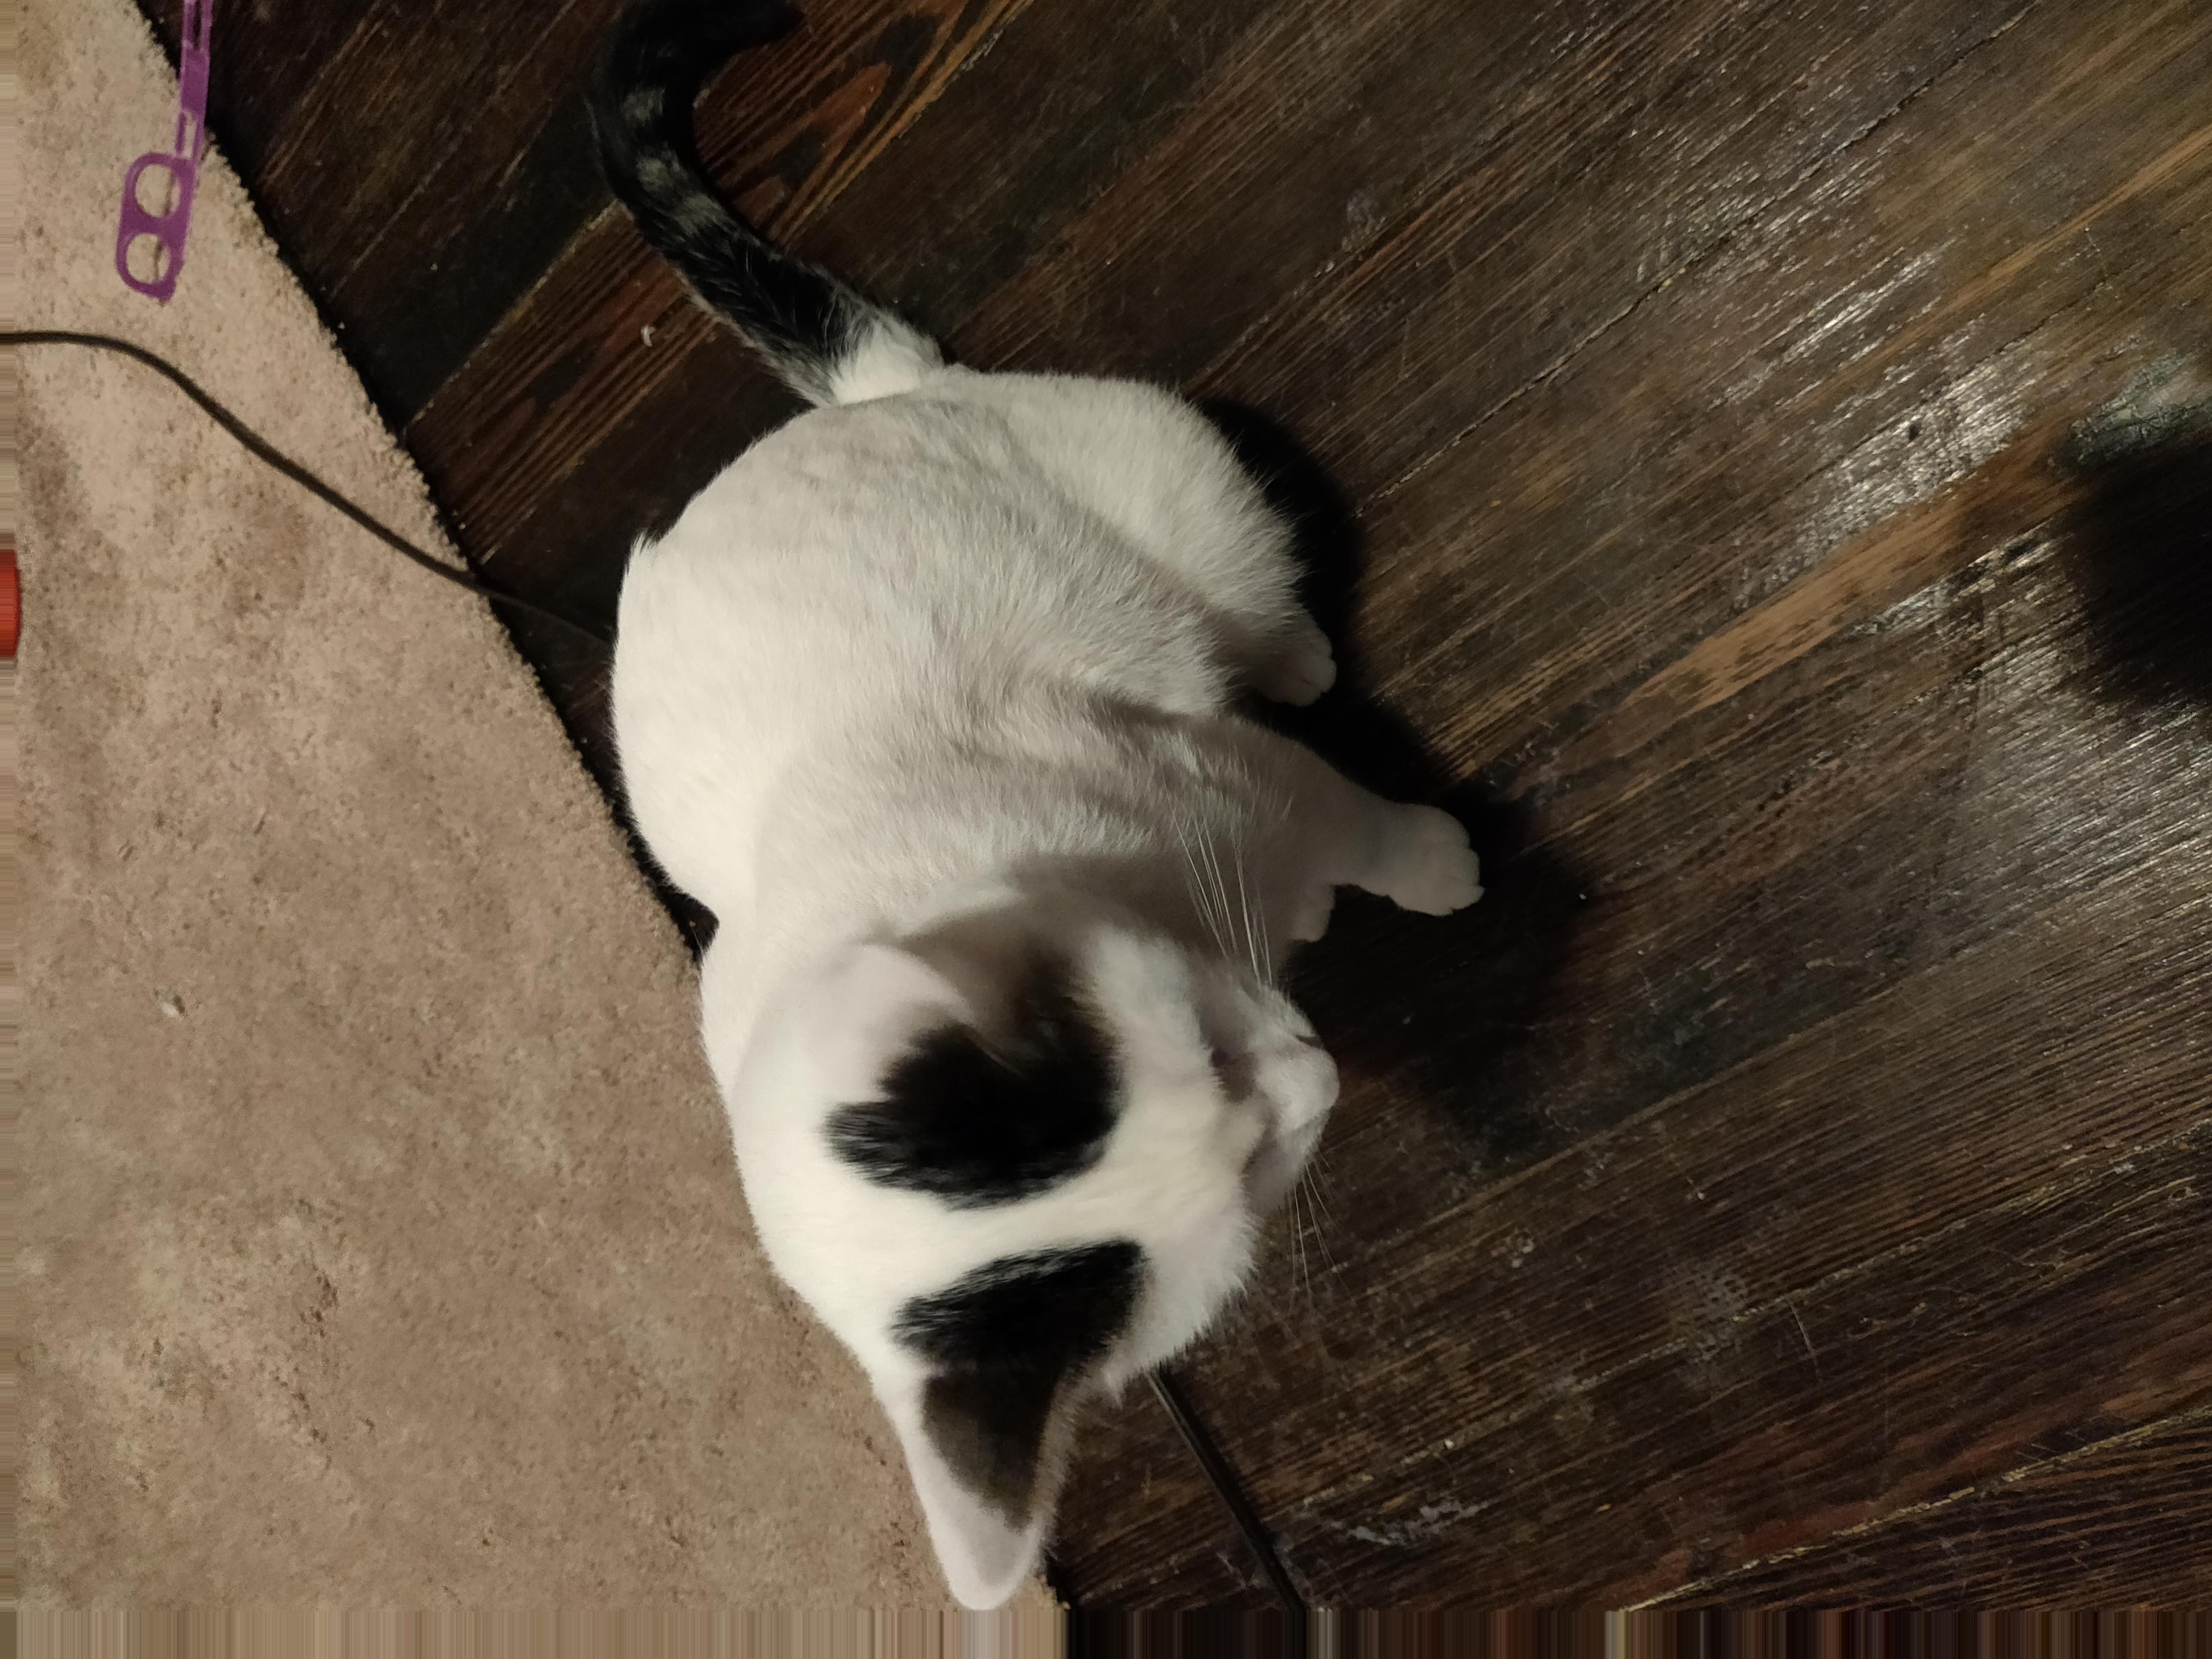cat: (599, 382, 1457, 1584)
